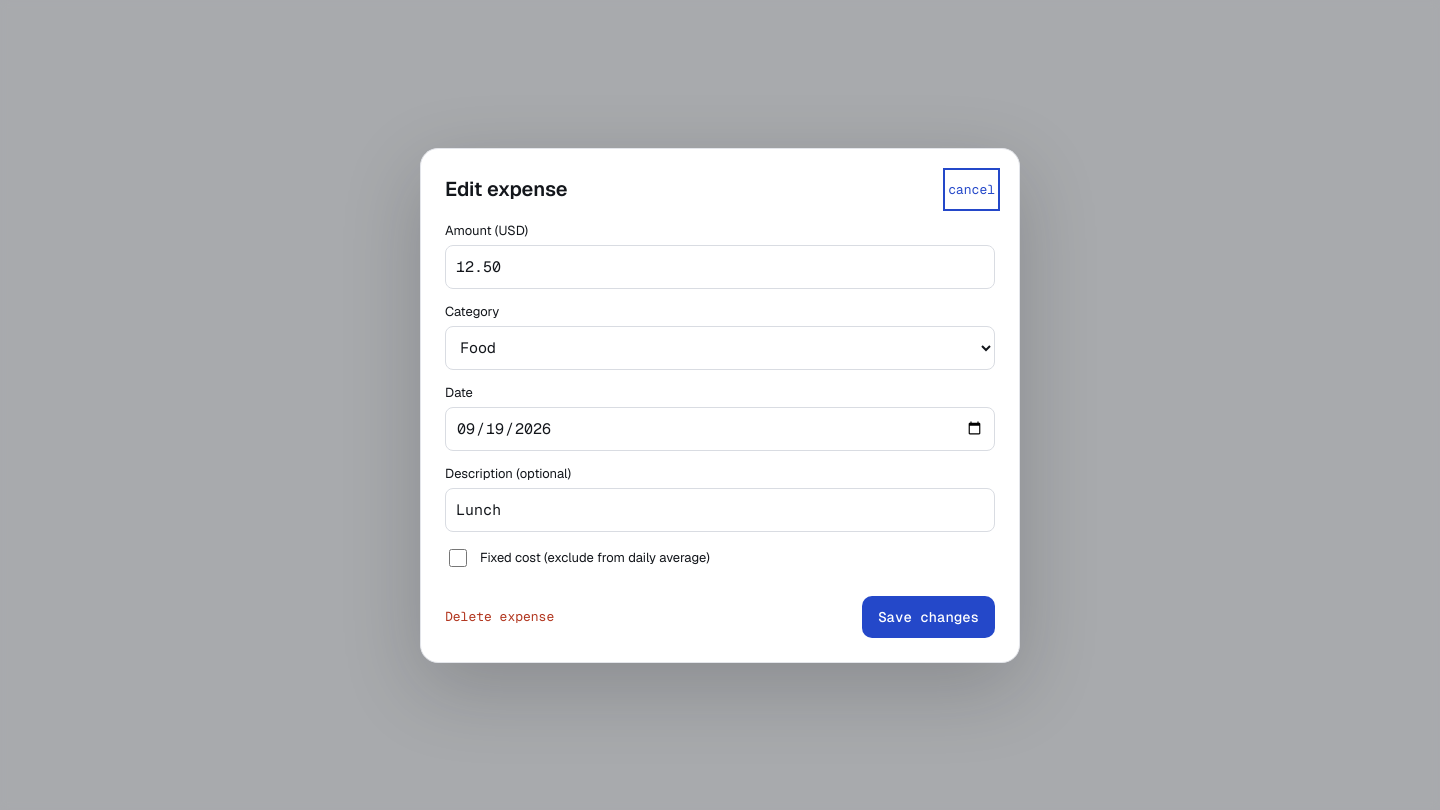
Test: explains invalid amount 1.234 without saving
The image size is (1440, 810).
Step 1. Replace the text in the field labelled "Amount (USD)" with "1.234" → (720, 266), box [445,244,995,288]
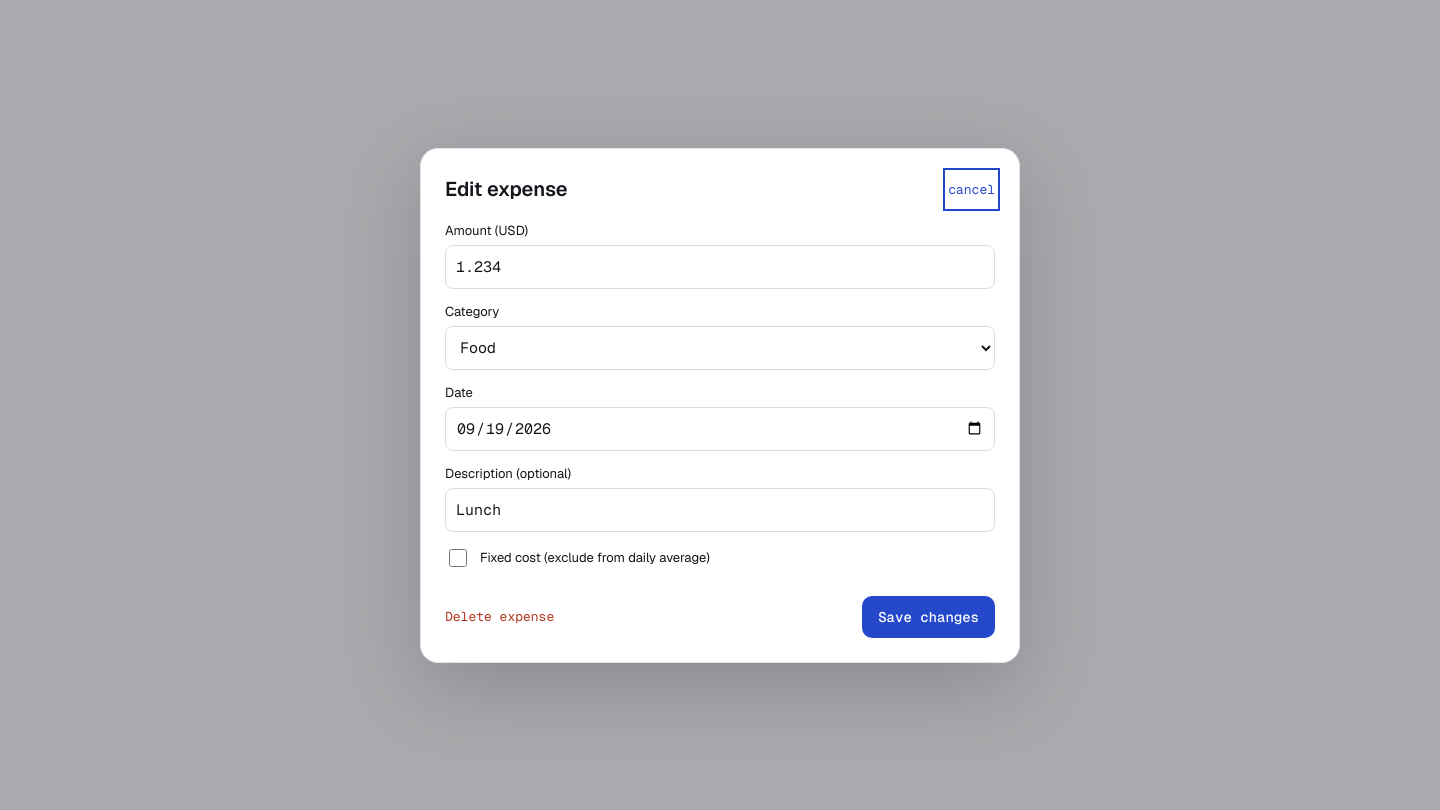
Step 2. Click the button "Save changes" → (929, 616), box [862,596,995,638]
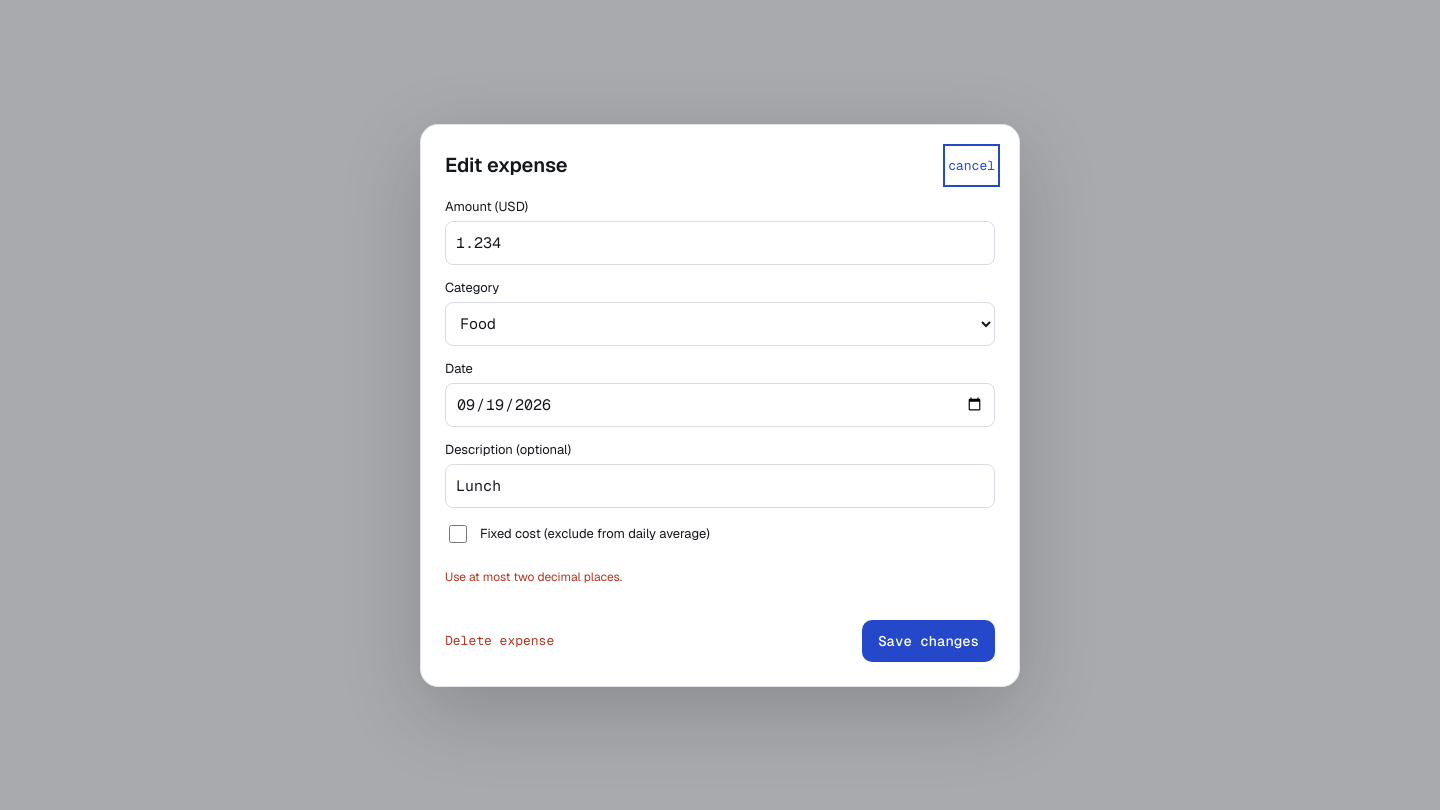
Check: the message reads "Use at most two decimal places.", box [445,568,622,584]
